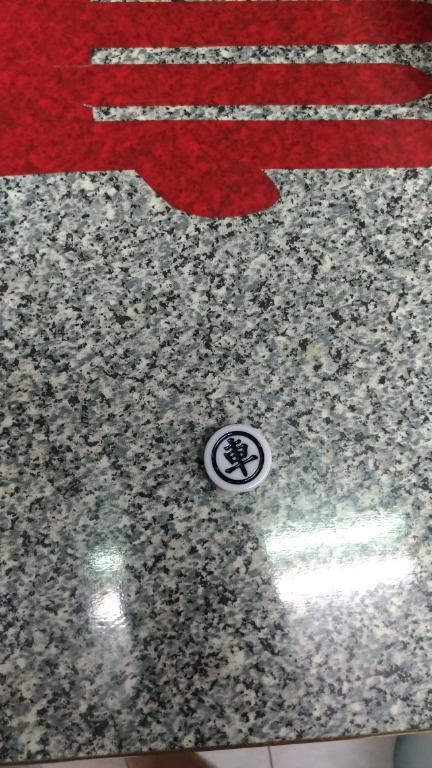b-rook: (197, 413, 285, 506)
